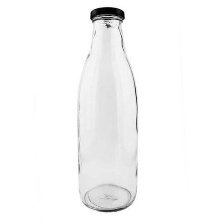bottle: (71, 2, 145, 217)
